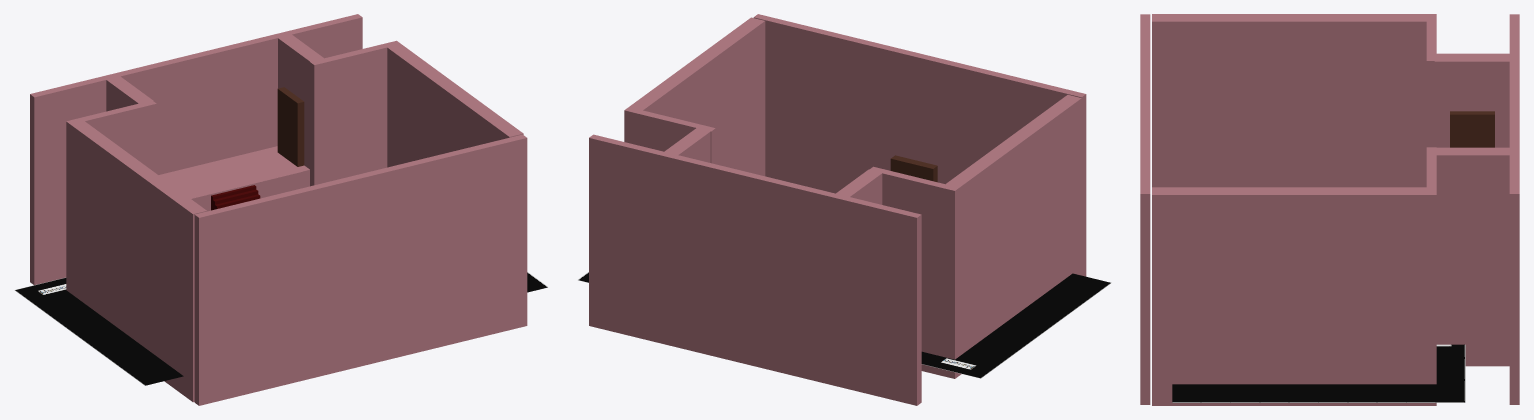
Rendered from mansion map.fbx.
The picture shows the model from 3 angles, left to right: view 1: azimuth 30°, elevation 25°; view 2: azimuth 150°, elevation 25°; view 3: azimuth 270°, elevation 25°; orthographic projection. The views are drawn at different scales.
Parts seen in each view (by area): view 1: Cube__25_, Cube__26_, Cube__24_, Cube__27_, Cube__23_, mansion_map, Cube__17_, Cube__28_, Cube__30_, Cube__32_, Cube__20_, Cube__29_; view 2: Cube__26_, Cube__25_, Cube__24_, Cube__23_, Cube__28_, mansion_map, Cube__27_, Cube__29_, Cube__30_, Cube__31_; view 3: Cube__23_, Cube__24_, Cube__30_, mansion_map, Cube__29_, Cube__25_, Cube__26_, Cube__33_, Cube__28_, Cube__27_.
Part boxes in pixels (box(x1,y1,x2,y2)): Cube__25_: box(194, 134, 527, 405); Cube__26_: box(30, 14, 362, 285); Cube__24_: box(66, 118, 206, 402); Cube__27_: box(310, 42, 394, 186); Cube__23_: box(383, 40, 523, 167); mansion_map: box(14, 272, 548, 385); Cube__17_: box(159, 148, 300, 198); Cube__28_: box(81, 101, 156, 173); Cube__30_: box(278, 34, 323, 169); Cube__32_: box(277, 87, 304, 166); Cube__20_: box(191, 168, 302, 211); Cube__29_: box(106, 76, 153, 111); Cube__26_: box(589, 134, 921, 405); Cube__25_: box(753, 14, 1086, 276); Cube__24_: box(941, 95, 1081, 378); Cube__23_: box(624, 17, 765, 176); Cube__28_: box(869, 166, 954, 377); mansion_map: box(577, 272, 1110, 378); Cube__27_: box(629, 108, 715, 164); Cube__29_: box(835, 169, 882, 204); Cube__30_: box(663, 127, 711, 162); Cube__31_: box(890, 155, 937, 182); Cube__23_: box(1152, 187, 1436, 405); Cube__24_: box(1152, 14, 1436, 187); Cube__30_: box(1436, 147, 1511, 366); mansion_map: box(1172, 344, 1465, 402); Cube__29_: box(1434, 53, 1511, 147); Cube__25_: box(1140, 14, 1150, 404); Cube__26_: box(1509, 14, 1519, 404); Cube__33_: box(1450, 111, 1494, 147); Cube__28_: box(1426, 17, 1436, 147); Cube__27_: box(1426, 147, 1436, 191).
Size of the model in its own units: 13447 by 6017 by 9760.
Materials: 4 (1 with a texture image).
